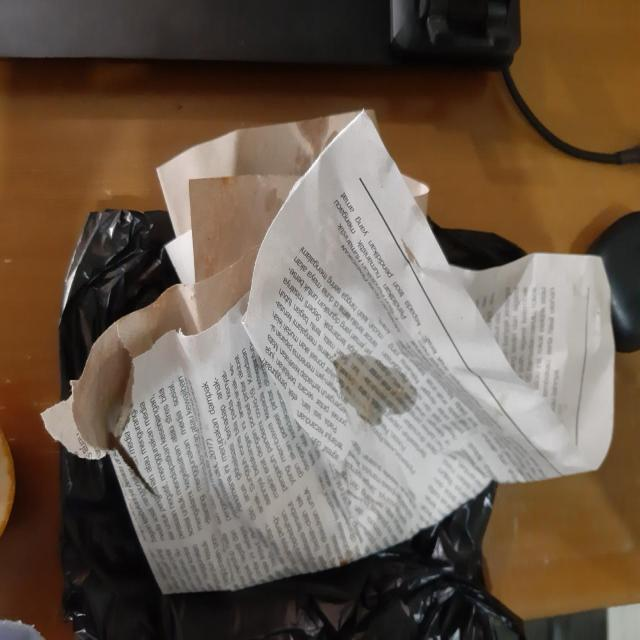Koran: (60, 111, 618, 595)
